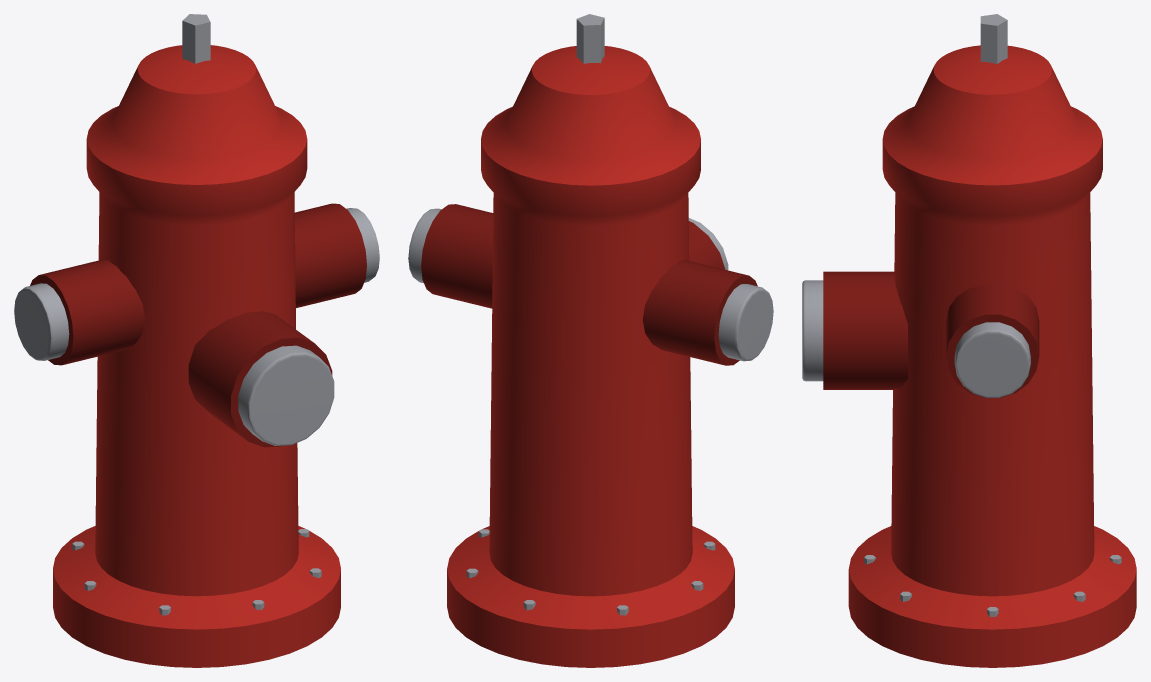
Rendered from gen_fire_hydrant.mobile-high.glb.
3 renders of one model, left to right at view 1: azimuth 30°, elevation 25°; view 2: azimuth 150°, elevation 25°; view 3: azimuth 270°, elevation 25°, orthographic.
Parts seen in each view (by area): view 1: gen_fire_hydrant; view 2: gen_fire_hydrant; view 3: gen_fire_hydrant.
Boxes of the visible parts, x1,y1,x2,y2 form: gen_fire_hydrant: (14, 14, 379, 667); gen_fire_hydrant: (408, 14, 773, 667); gen_fire_hydrant: (802, 14, 1136, 667).
Bounding box in the file's own units: 0.45 × 0.765 × 0.395.
1 material, 1 textured.
